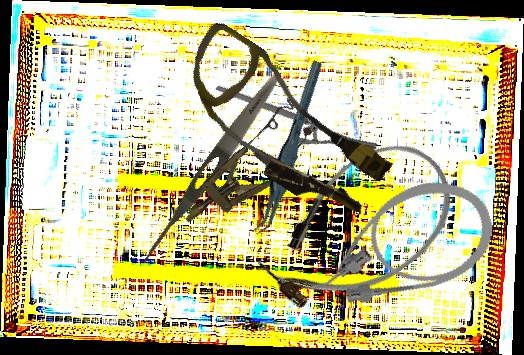Cannula: (158, 18, 408, 231), (241, 120, 477, 337), (292, 166, 505, 323)
Dressing Forceps: (135, 68, 286, 271)
Needle Holder: (215, 40, 380, 194)
Speculum: (167, 97, 326, 243)
Tissue Forceps: (235, 59, 343, 239)
